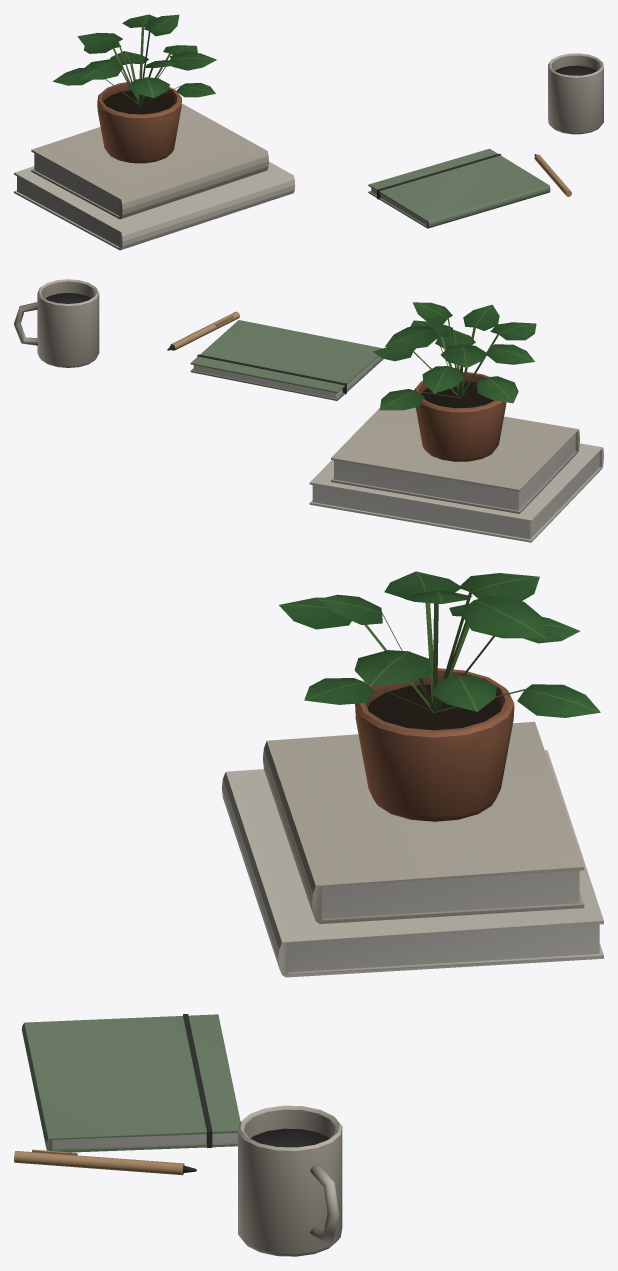
The model's file is decor_d_vignette_guest_desk.gltf.
3 views of the same model, one above another, from view 1: azimuth 30°, elevation 25°; view 2: azimuth 150°, elevation 25°; view 3: azimuth 270°, elevation 25° (orthographic). The views are drawn at different scales.
Parts seen in each view (by area): view 1: DecorD_Vignette_GuestDesk_Stoneware_NoCollide, DecorD_Vignette_GuestDesk_Sage_NoCollide, DecorD_Vignette_GuestDesk_Linen_NoCollide, DecorD_Vignette_GuestDesk_Leaf_NoCollide, DecorD_Vignette_GuestDesk_Terracotta_NoCollide, DecorD_Vignette_GuestDesk_Paper_NoCollide, DecorD_Vignette_GuestDesk_Soil_NoCollide, DecorD_Vignette_GuestDesk_Charcoal_NoCollide, DecorD_Vignette_GuestDesk_Bronze_NoCollide; view 2: DecorD_Vignette_GuestDesk_Stoneware_NoCollide, DecorD_Vignette_GuestDesk_Paper_NoCollide, DecorD_Vignette_GuestDesk_Leaf_NoCollide, DecorD_Vignette_GuestDesk_Sage_NoCollide, DecorD_Vignette_GuestDesk_Terracotta_NoCollide, DecorD_Vignette_GuestDesk_Linen_NoCollide, DecorD_Vignette_GuestDesk_Soil_NoCollide, DecorD_Vignette_GuestDesk_Charcoal_NoCollide, DecorD_Vignette_GuestDesk_Bronze_NoCollide; view 3: DecorD_Vignette_GuestDesk_Stoneware_NoCollide, DecorD_Vignette_GuestDesk_Sage_NoCollide, DecorD_Vignette_GuestDesk_Paper_NoCollide, DecorD_Vignette_GuestDesk_Leaf_NoCollide, DecorD_Vignette_GuestDesk_Linen_NoCollide, DecorD_Vignette_GuestDesk_Terracotta_NoCollide, DecorD_Vignette_GuestDesk_Soil_NoCollide, DecorD_Vignette_GuestDesk_Bronze_NoCollide, DecorD_Vignette_GuestDesk_Charcoal_NoCollide.
Part boxes in pixels (<box>): DecorD_Vignette_GuestDesk_Stoneware_NoCollide: <box>31,53,603,219</box>; DecorD_Vignette_GuestDesk_Sage_NoCollide: <box>368,148,550,228</box>; DecorD_Vignette_GuestDesk_Linen_NoCollide: <box>14,162,294,250</box>; DecorD_Vignette_GuestDesk_Leaf_NoCollide: <box>52,14,216,105</box>; DecorD_Vignette_GuestDesk_Terracotta_NoCollide: <box>97,81,181,163</box>; DecorD_Vignette_GuestDesk_Paper_NoCollide: <box>17,153,426,246</box>; DecorD_Vignette_GuestDesk_Soil_NoCollide: <box>103,90,175,114</box>; DecorD_Vignette_GuestDesk_Charcoal_NoCollide: <box>377,65,596,199</box>; DecorD_Vignette_GuestDesk_Bronze_NoCollide: <box>534,154,571,196</box>; DecorD_Vignette_GuestDesk_Stoneware_NoCollide: <box>14,279,579,513</box>; DecorD_Vignette_GuestDesk_Paper_NoCollide: <box>193,356,599,539</box>; DecorD_Vignette_GuestDesk_Leaf_NoCollide: <box>373,302,536,410</box>; DecorD_Vignette_GuestDesk_Sage_NoCollide: <box>190,320,383,400</box>; DecorD_Vignette_GuestDesk_Terracotta_NoCollide: <box>414,372,506,461</box>; DecorD_Vignette_GuestDesk_Linen_NoCollide: <box>309,443,603,542</box>; DecorD_Vignette_GuestDesk_Soil_NoCollide: <box>421,381,494,408</box>; DecorD_Vignette_GuestDesk_Charcoal_NoCollide: <box>45,292,346,394</box>; DecorD_Vignette_GuestDesk_Bronze_NoCollide: <box>170,311,239,350</box>; DecorD_Vignette_GuestDesk_Stoneware_NoCollide: <box>238,721,584,1256</box>; DecorD_Vignette_GuestDesk_Sage_NoCollide: <box>21,1014,240,1152</box>; DecorD_Vignette_GuestDesk_Paper_NoCollide: <box>52,870,599,1149</box>; DecorD_Vignette_GuestDesk_Leaf_NoCollide: <box>279,571,600,717</box>; DecorD_Vignette_GuestDesk_Linen_NoCollide: <box>221,750,603,977</box>; DecorD_Vignette_GuestDesk_Terracotta_NoCollide: <box>355,668,514,821</box>; DecorD_Vignette_GuestDesk_Soil_NoCollide: <box>367,684,501,730</box>; DecorD_Vignette_GuestDesk_Bronze_NoCollide: <box>14,1149,184,1175</box>; DecorD_Vignette_GuestDesk_Charcoal_NoCollide: <box>183,1014,329,1172</box>.
Bounding box in the file's own units: 0.8681 × 0.259 × 0.4484.
9 materials, 1 textured.
